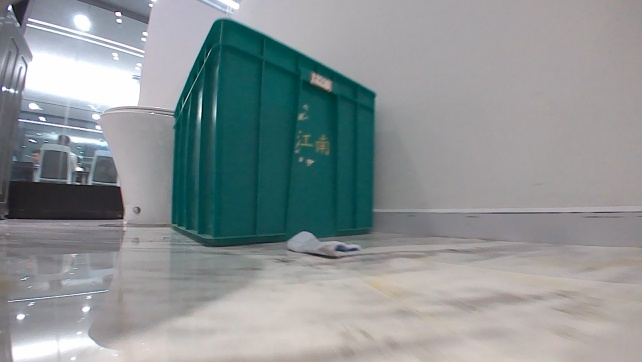socks: (286, 228, 361, 258)
toilet: (96, 102, 177, 227)
